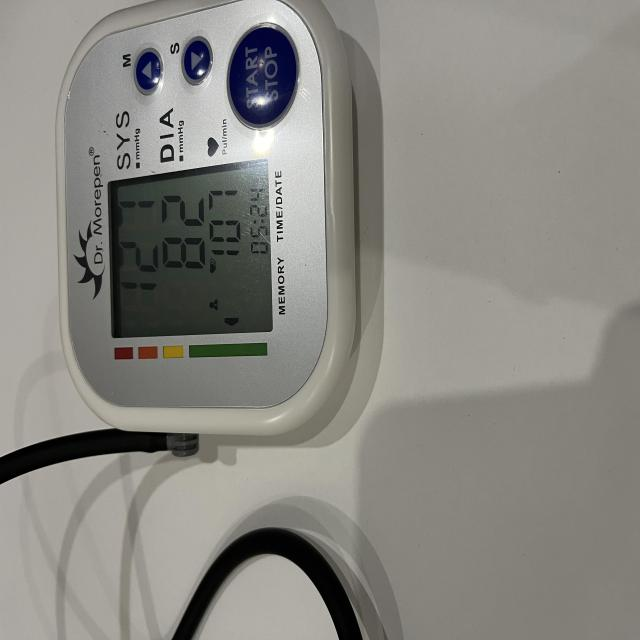bp: (51, 0, 381, 450)
